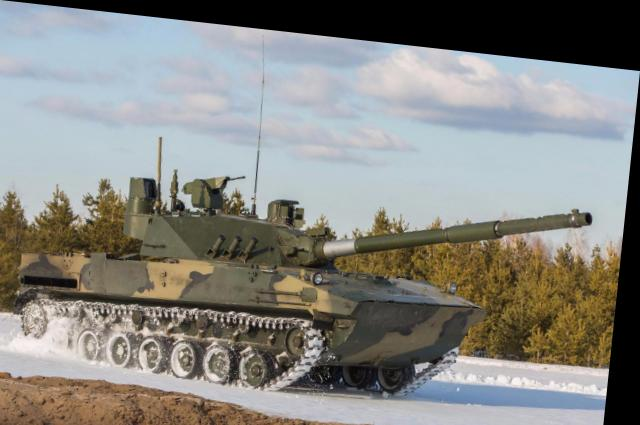tank: (30, 158, 487, 389)
